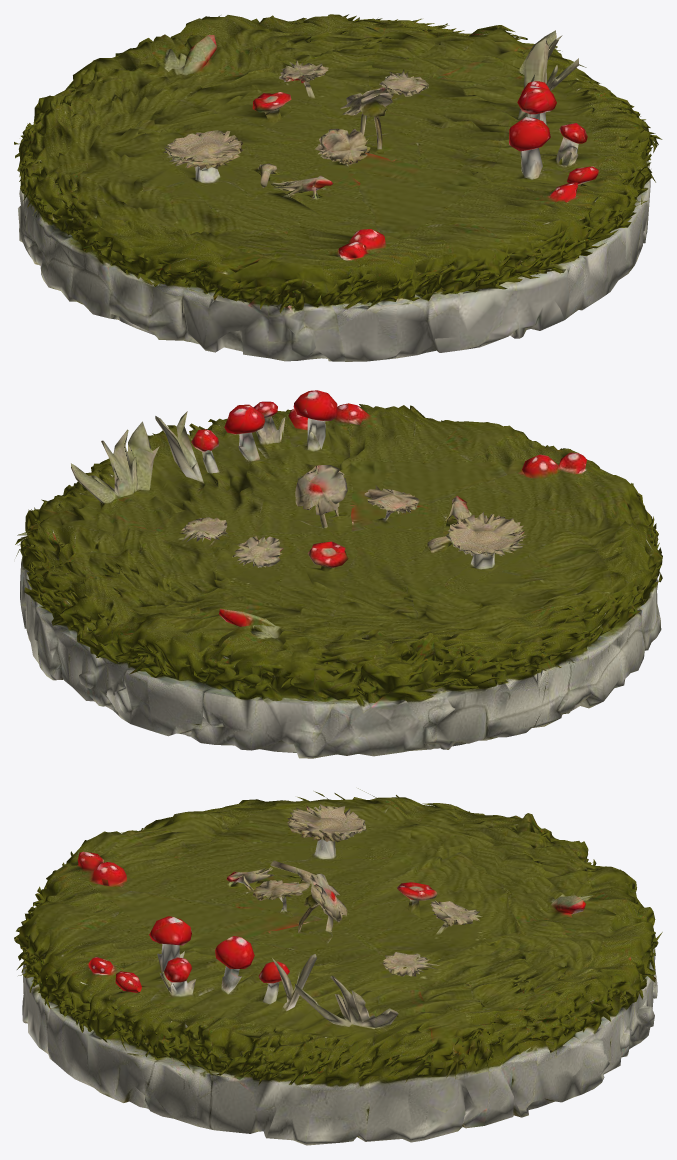
The model's file is leapBaseMeadow.db3308e9.glb.
The picture shows the model from 3 angles, top to bottom: view 1: azimuth 30°, elevation 25°; view 2: azimuth 150°, elevation 25°; view 3: azimuth 270°, elevation 25°; orthographic projection.
Bounding box in the file's own units: 1.88 × 0.4948 × 1.9.
1 material, 1 textured.
